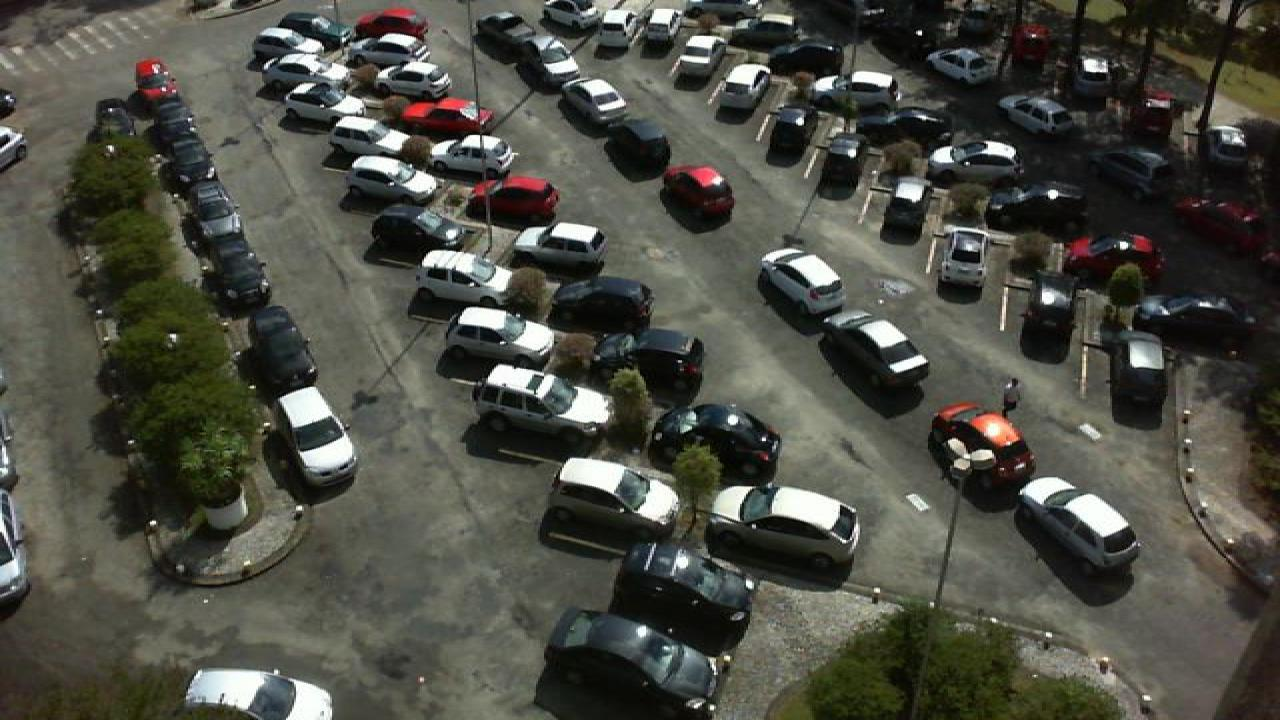Car: (540, 610, 720, 720), (610, 540, 754, 638), (708, 483, 864, 572), (1014, 476, 1140, 571), (544, 457, 678, 543), (470, 362, 612, 442), (650, 403, 782, 486), (930, 403, 1036, 493), (272, 387, 360, 492), (818, 310, 928, 390), (182, 668, 338, 720), (438, 306, 562, 369), (596, 326, 708, 391), (244, 307, 316, 395), (1134, 292, 1250, 346), (550, 275, 654, 334), (758, 248, 844, 316), (1174, 198, 1278, 250), (414, 248, 516, 301), (1106, 329, 1170, 412), (986, 183, 1092, 233), (510, 222, 608, 271), (1066, 234, 1164, 282), (370, 205, 468, 253), (1086, 149, 1174, 199), (1018, 279, 1078, 350), (346, 154, 440, 199), (660, 166, 736, 221), (602, 117, 670, 177), (470, 173, 558, 219), (282, 81, 370, 124), (930, 140, 1020, 182), (324, 116, 412, 157), (212, 249, 272, 307), (936, 225, 988, 290), (432, 134, 514, 175), (994, 95, 1078, 135), (400, 97, 492, 133), (558, 78, 630, 124), (474, 12, 548, 56), (922, 46, 1000, 87), (260, 54, 352, 88), (518, 44, 586, 90), (164, 129, 220, 181), (866, 108, 954, 141), (370, 61, 452, 96), (716, 64, 770, 116), (196, 204, 250, 256), (250, 29, 328, 63), (1126, 90, 1176, 142), (816, 71, 890, 106), (674, 34, 726, 82), (352, 33, 428, 64), (766, 40, 842, 71), (152, 98, 204, 143), (1010, 22, 1054, 75), (1204, 124, 1254, 170), (276, 11, 354, 40), (356, 8, 432, 37), (764, 106, 808, 156), (822, 131, 866, 181), (186, 176, 236, 219), (94, 98, 138, 144), (132, 58, 176, 102), (540, 0, 602, 30), (596, 12, 642, 48), (638, 8, 680, 47)
